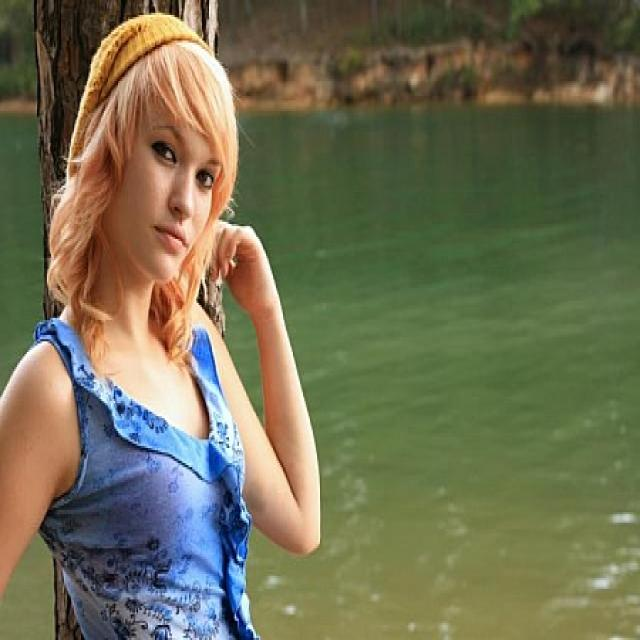Eyes: (148, 123, 231, 200)
